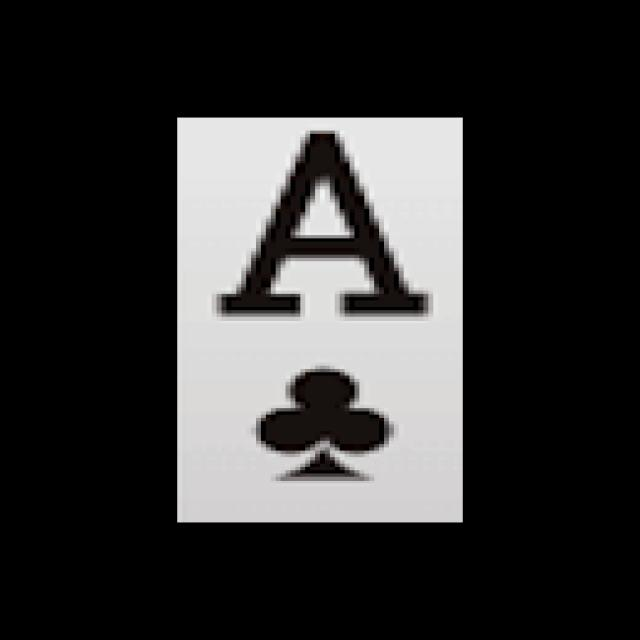AC: (197, 124, 445, 497)
